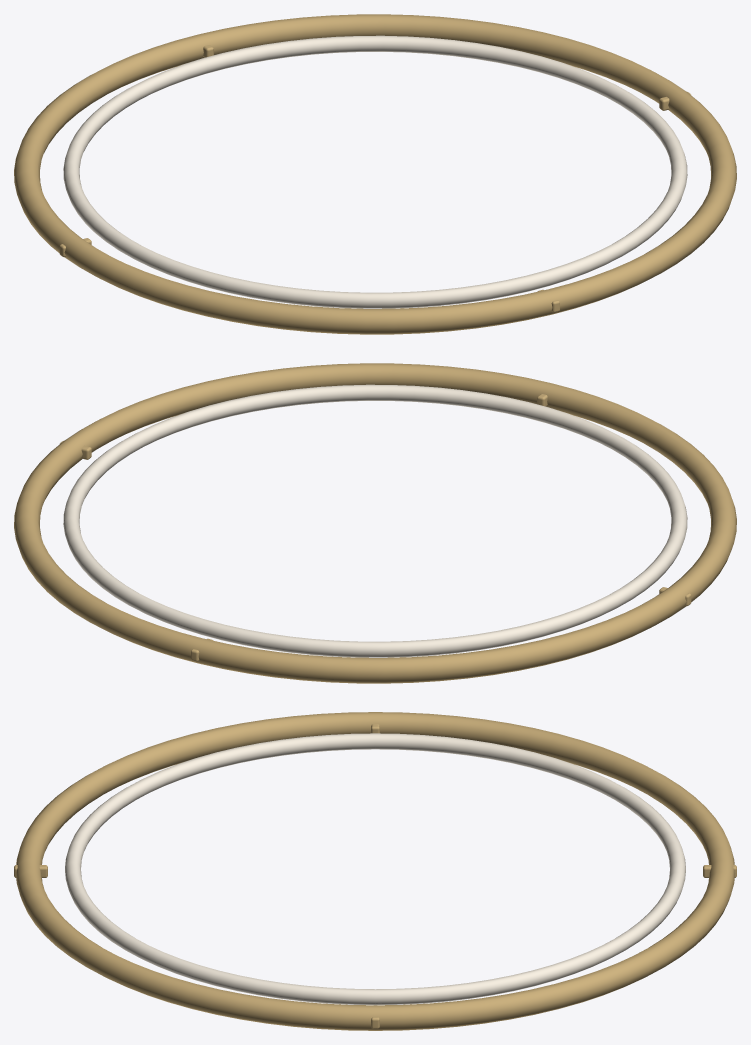
File: echo_pressure_ring.glb
The picture shows the model from 3 angles, top to bottom: view 1: azimuth 30°, elevation 25°; view 2: azimuth 150°, elevation 25°; view 3: azimuth 270°, elevation 25°; orthographic projection.
Parts seen in each view (by area): view 1: echo_pressure_ring__Brushed_champagne_brass, echo_pressure_ring__Warm_porcelain_glaze; view 2: echo_pressure_ring__Brushed_champagne_brass, echo_pressure_ring__Warm_porcelain_glaze; view 3: echo_pressure_ring__Brushed_champagne_brass, echo_pressure_ring__Warm_porcelain_glaze.
Boxes of the visible parts, x1,y1,x2,y2 form: echo_pressure_ring__Brushed_champagne_brass: (14,14,736,334); echo_pressure_ring__Warm_porcelain_glaze: (63,35,687,308); echo_pressure_ring__Brushed_champagne_brass: (14,363,736,683); echo_pressure_ring__Warm_porcelain_glaze: (63,384,687,657); echo_pressure_ring__Brushed_champagne_brass: (14,712,736,1030); echo_pressure_ring__Warm_porcelain_glaze: (65,733,685,1005).
Bounding box in the file's own units: 0.896 × 0.0304 × 0.896.
